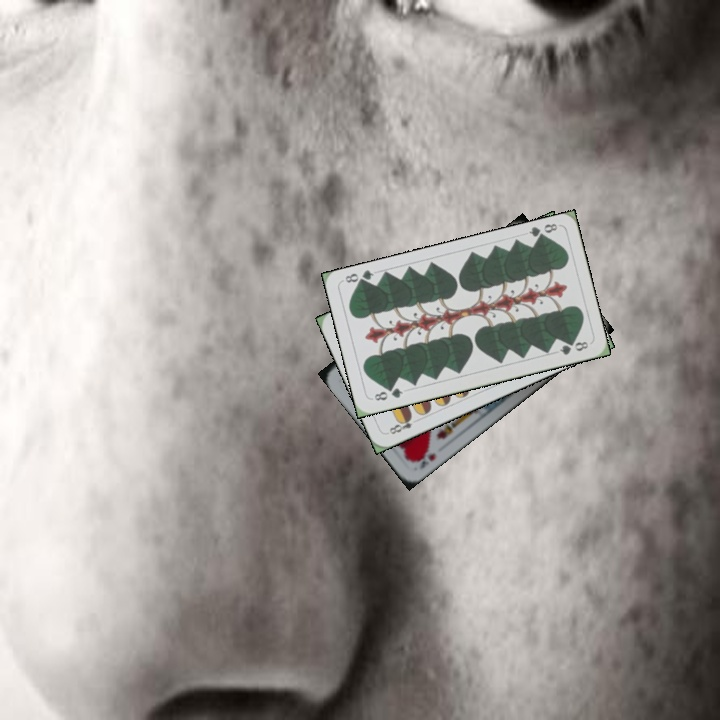E8: (383, 411, 422, 437)
G8: (525, 219, 560, 243), (370, 384, 405, 403)
HK: (408, 445, 438, 472)
